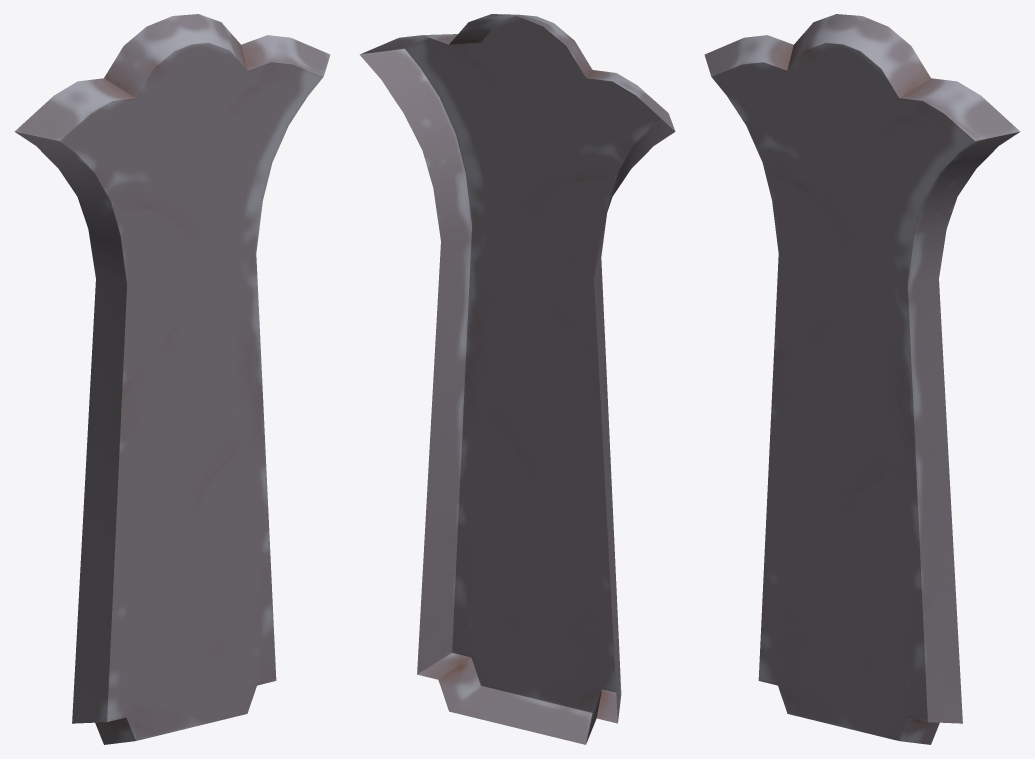
The model's file is Parts_Hinge_Medium.fbx.
3 views of the same model, side by side, from view 1: azimuth 30°, elevation 25°; view 2: azimuth 150°, elevation 25°; view 3: azimuth 330°, elevation 25° (orthographic).
Parts seen in each view (by area): view 1: Parts_Hinge_Medium; view 2: Parts_Hinge_Medium; view 3: Parts_Hinge_Medium.
Part boxes in pixels (x1,y1,x2,y2): Parts_Hinge_Medium: (14, 14, 330, 744); Parts_Hinge_Medium: (359, 14, 675, 744); Parts_Hinge_Medium: (704, 14, 1020, 744).
Bounding box in the file's own units: 14.39 × 30.98 × 1.52.
